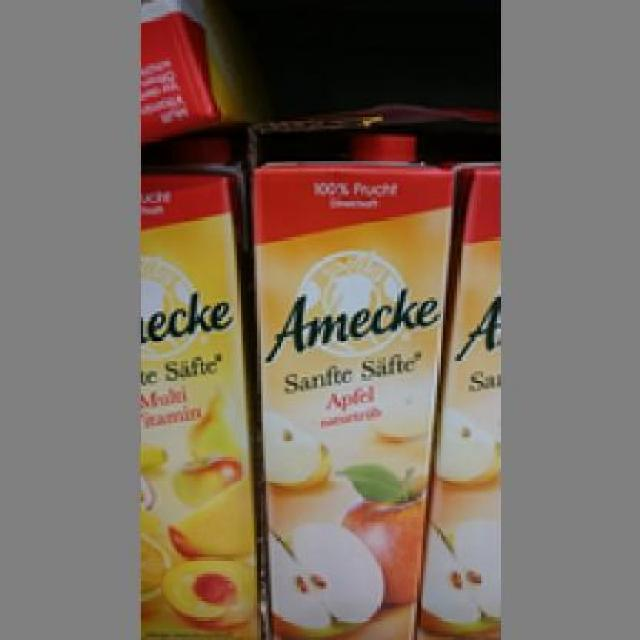Juice: (248, 117, 454, 637), (140, 152, 257, 638)
